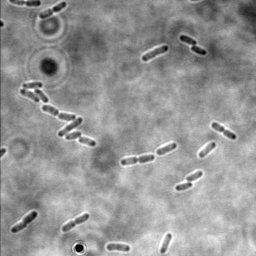Dividing: (10, 209, 39, 234), (60, 211, 90, 233), (40, 104, 76, 122), (37, 0, 69, 20), (209, 119, 238, 141), (120, 153, 156, 167), (7, 0, 42, 9), (177, 33, 198, 47), (190, 45, 208, 57)
Rod: (141, 42, 170, 63), (57, 116, 84, 138), (196, 139, 218, 160), (154, 140, 179, 157), (18, 87, 40, 105), (158, 231, 173, 255), (183, 169, 204, 183), (105, 242, 131, 253), (33, 88, 50, 104), (174, 180, 194, 193), (77, 135, 97, 148), (20, 80, 44, 90), (63, 131, 83, 141)
